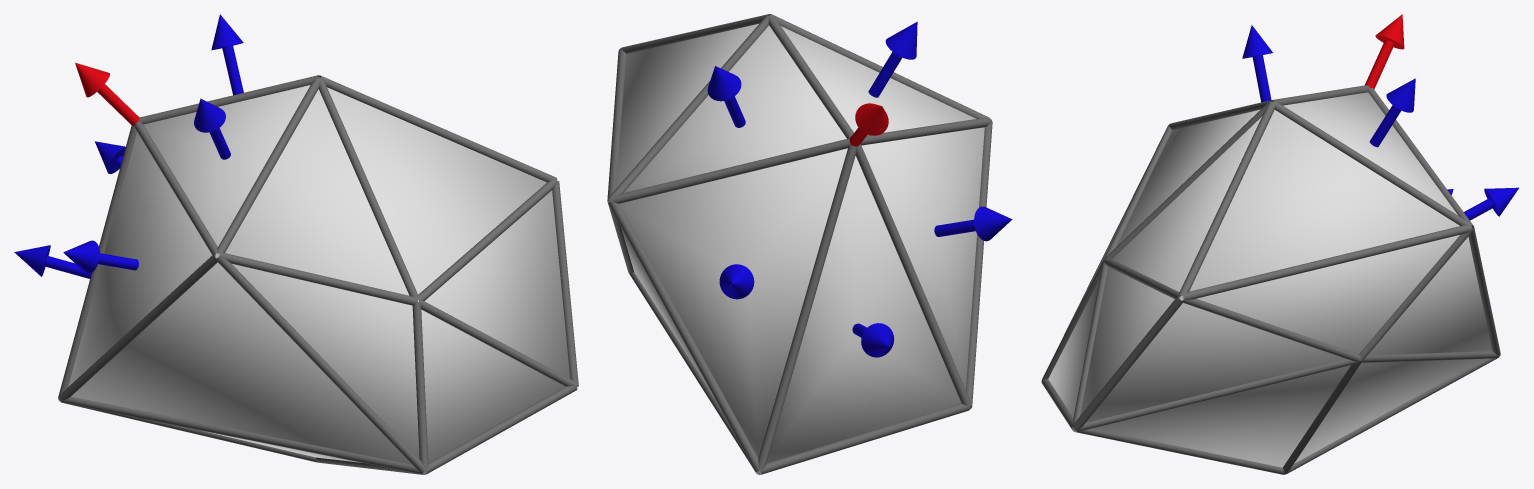
File: average-normal.glb
The picture shows the model from 3 angles, left to right: view 1: azimuth 30°, elevation 25°; view 2: azimuth 150°, elevation 25°; view 3: azimuth 270°, elevation 25°; orthographic projection. The views are drawn at different scales.
Visible parts, largest first — view 1: Cube; view 2: Cube; view 3: Cube.
Boxes of the visible parts, <box> form: Cube: <box>14,14,578,474</box>; Cube: <box>607,14,1012,474</box>; Cube: <box>1041,14,1518,474</box>.
Size of the model in its own units: 2.25 by 2.03 by 2.27.
